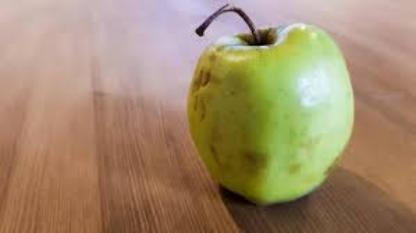defect: (182, 48, 240, 156)
